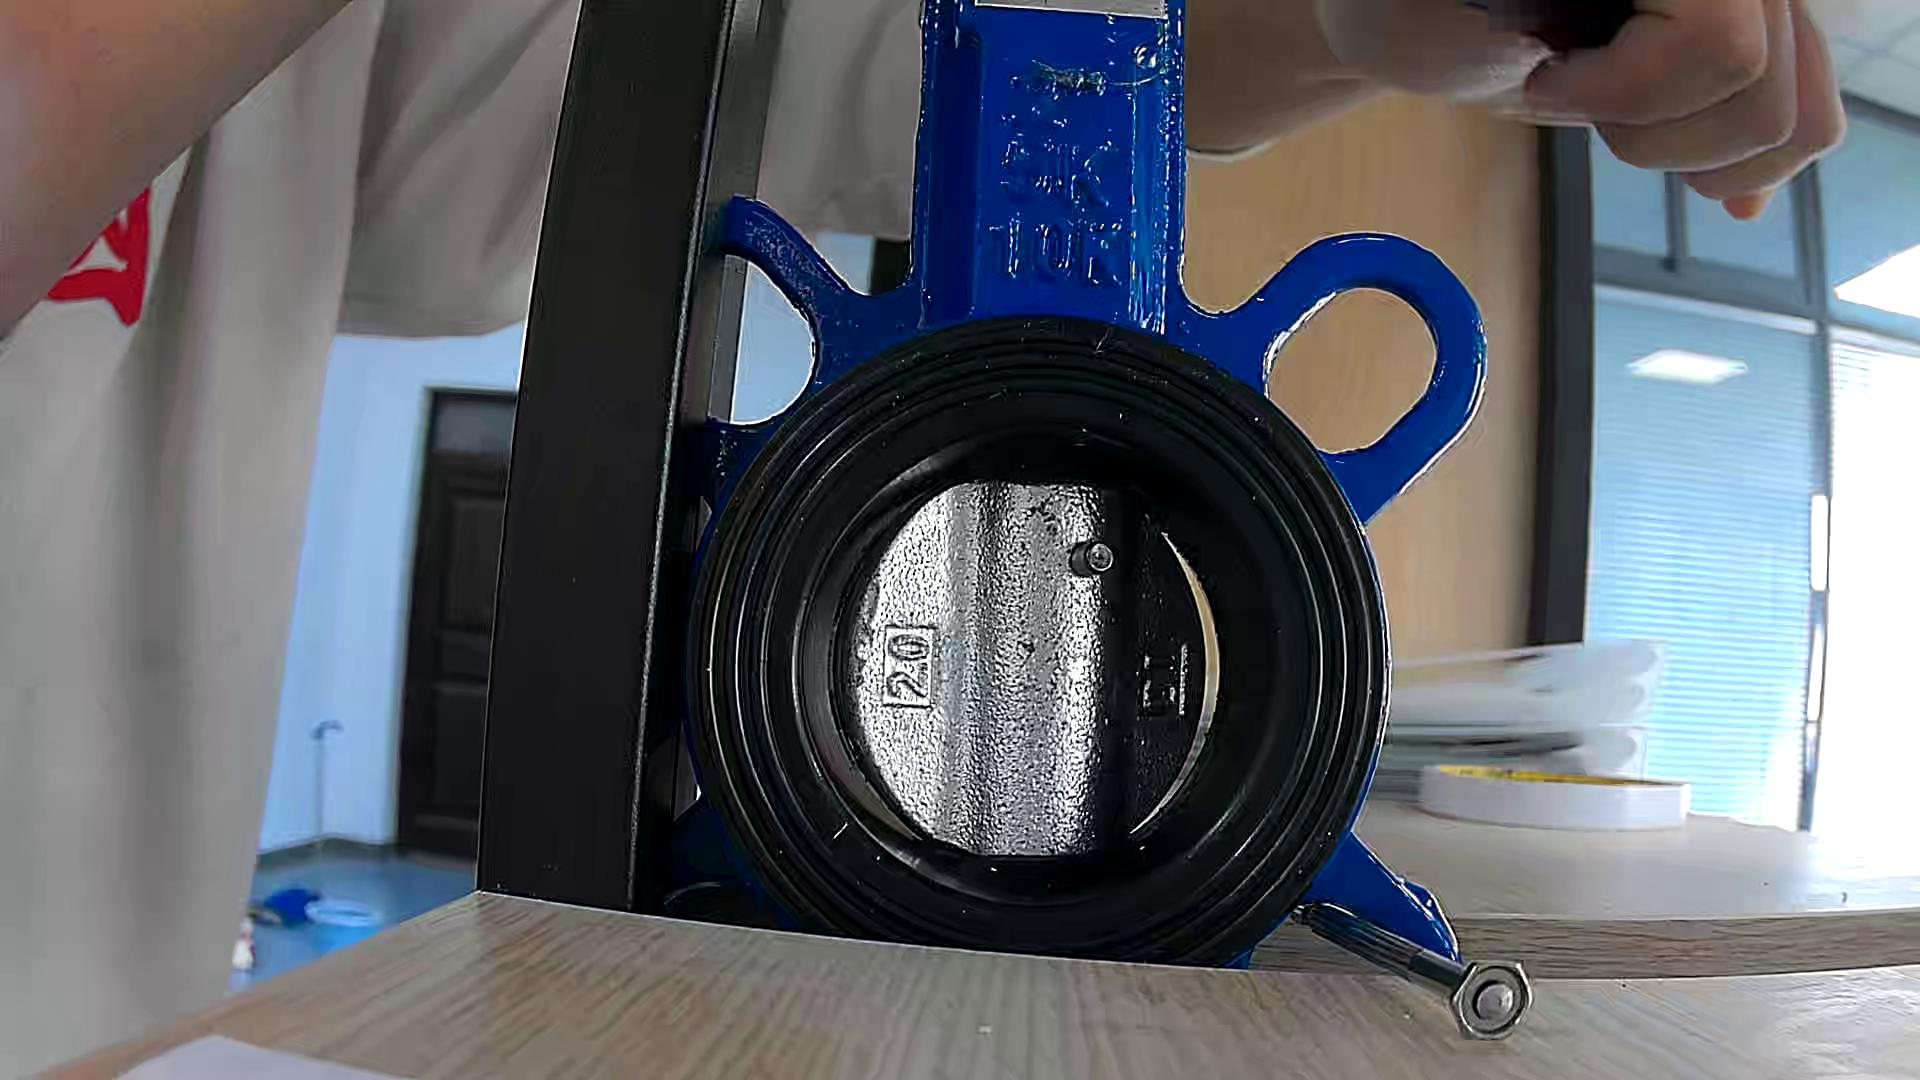valve: (844, 480, 1208, 858)
